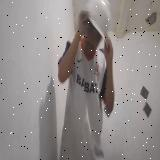Helmet: (86, 0, 111, 49)
